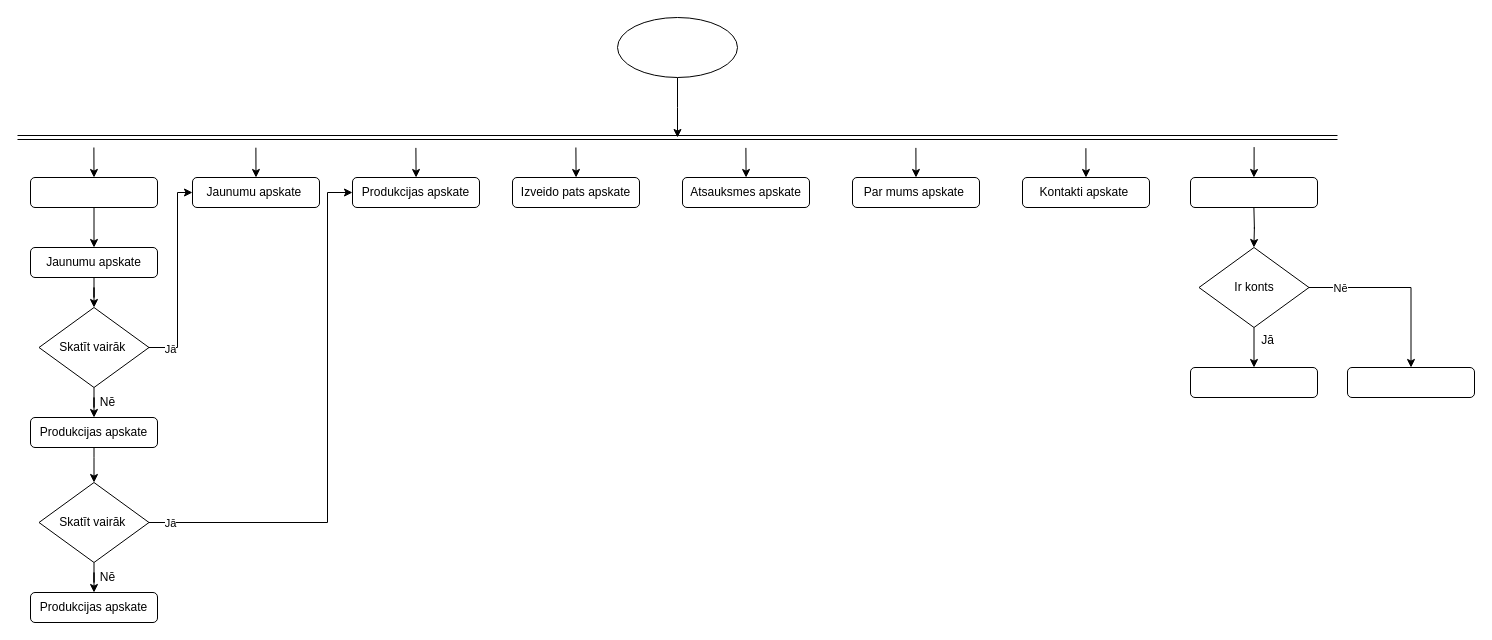
The diagram is 1492 pixels wide and 640 high, and some of its shapes have lost their labels. Here are the shapes that lost their labels. From the top down, the box of each, then its label:
(616, 16, 738, 78): Sākums
(30, 176, 158, 208): Sākumlapa
(1190, 176, 1318, 208): Autorizācijas lapa
(1190, 366, 1318, 398): Autorizēšanās
(1346, 366, 1474, 398): Reģisrēšanās
